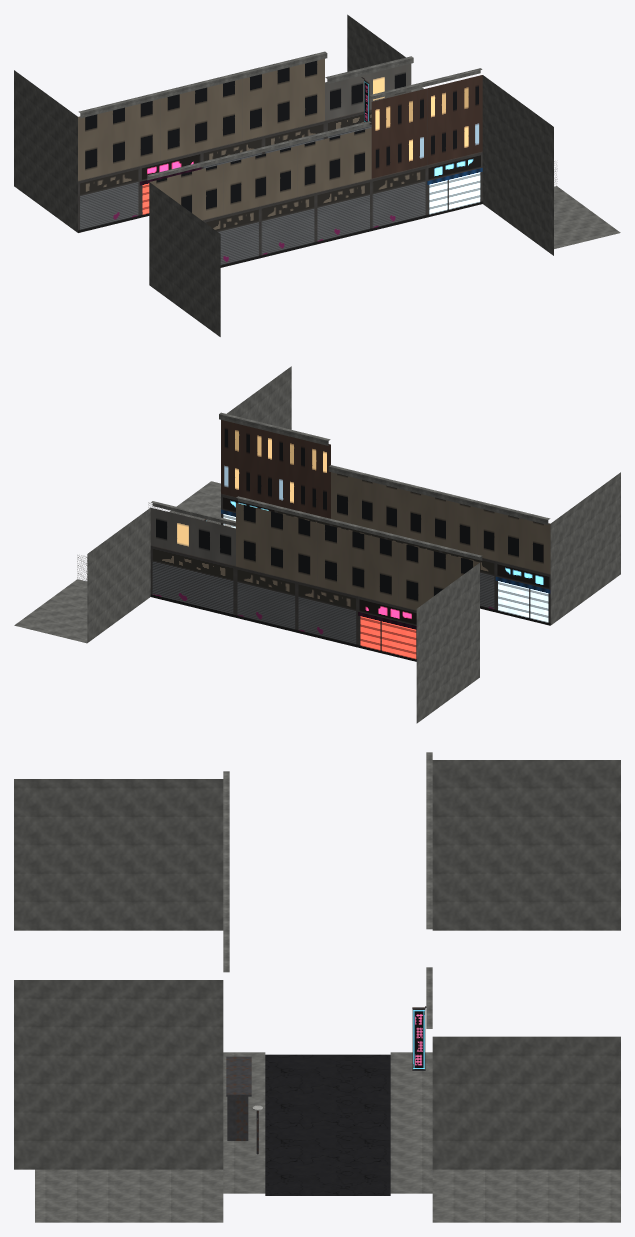
The model's file is night_bus_stop.glb.
3 renders of one model, top to bottom at view 1: azimuth 30°, elevation 25°; view 2: azimuth 150°, elevation 25°; view 3: azimuth 270°, elevation 25°, orthographic. The views are drawn at different scales.
Visible parts, largest first — view 1: night_bus_stop; view 2: night_bus_stop; view 3: night_bus_stop.
Part boxes in pixels (bbox=[...]): night_bus_stop: bbox=[14, 14, 620, 336]; night_bus_stop: bbox=[14, 366, 620, 723]; night_bus_stop: bbox=[14, 752, 620, 1222].
Bounding box in the file's own units: 33 × 10.4 × 29.
Materials: 11 (11 with a texture image).
